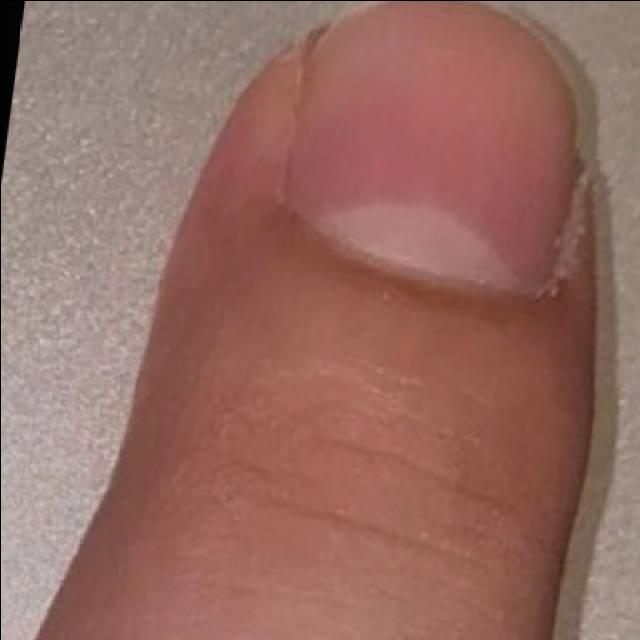Nail: (289, 5, 590, 291)
